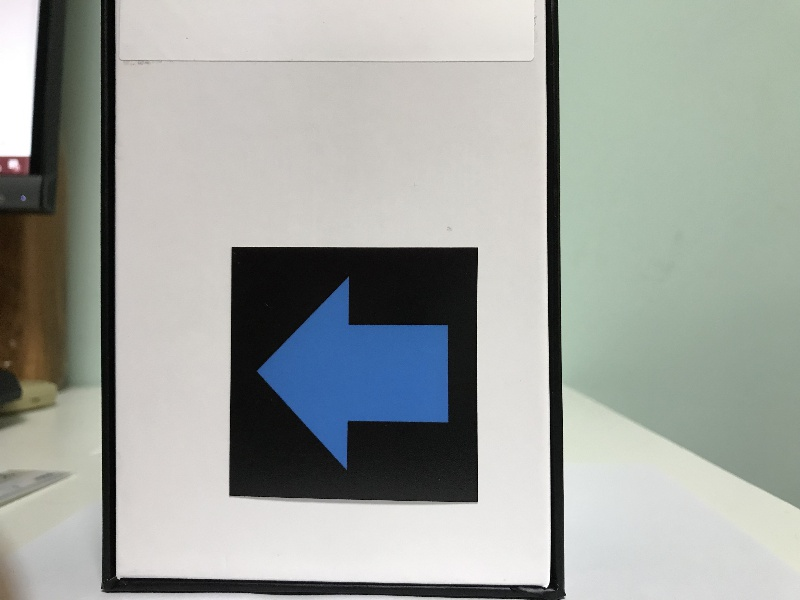LA-4: (236, 250, 475, 499)
